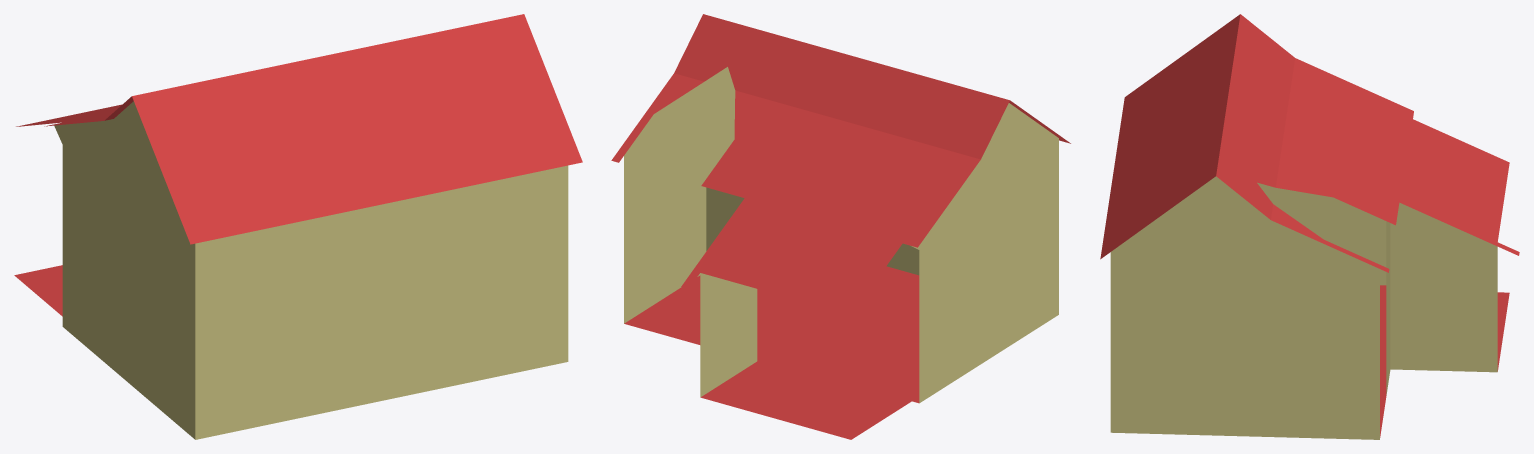
3 renders of one model, left to right at view 1: azimuth 30°, elevation 25°; view 2: azimuth 150°, elevation 25°; view 3: azimuth 270°, elevation 25°, orthographic. The views are drawn at different scales.
Bounding box in the file's own units: 21 × 21.89 × 15.18.
